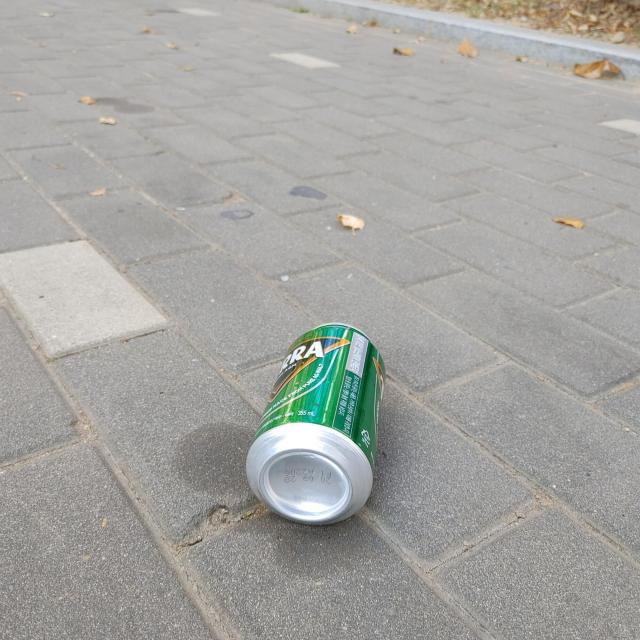can: (246, 323, 385, 525)
